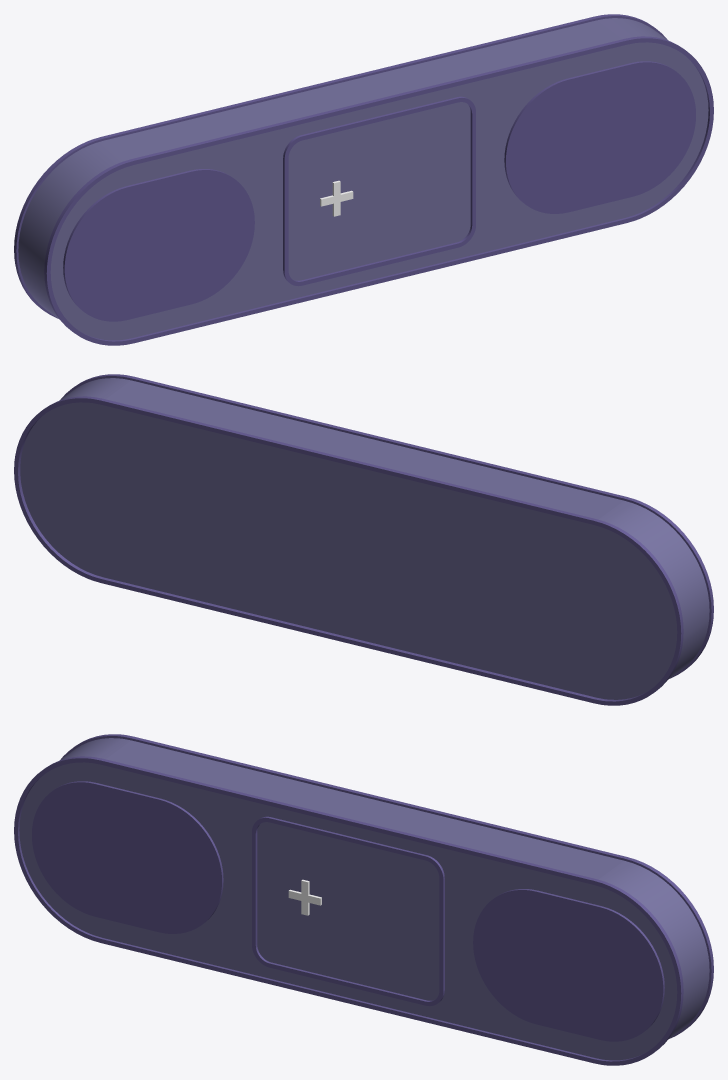
File: math_arithmetic.gltf
The picture shows the model from 3 angles, top to bottom: view 1: azimuth 30°, elevation 25°; view 2: azimuth 150°, elevation 25°; view 3: azimuth 330°, elevation 25°; orthographic projection.
Visible parts, largest first — view 1: Extrude.6, Extrude, Extrude.1, Extrude.5, Extrude.4, Extrude.3, Extrude.2; view 2: Extrude.6, Extrude.4, Extrude.5; view 3: Extrude.6, Extrude.1, Extrude, Extrude.5, Extrude.4, Extrude.3, Extrude.2.
Part boxes in pixels (x1,y1,x2,y2): Extrude.6: (18, 18, 708, 340); Extrude: (504, 61, 695, 213); Extrude.1: (63, 169, 254, 321); Extrude.5: (44, 36, 713, 345); Extrude.4: (14, 14, 666, 318); Extrude.3: (283, 96, 475, 286); Extrude.2: (320, 180, 353, 216); Extrude.6: (20, 378, 709, 699); Extrude.4: (14, 396, 683, 705); Extrude.5: (61, 374, 713, 678); Extrude.6: (19, 738, 709, 1060); Extrude.1: (32, 781, 223, 933); Extrude: (473, 889, 664, 1041); Extrude.5: (14, 756, 683, 1065); Extrude.4: (61, 734, 713, 1038); Extrude.3: (252, 816, 444, 1006); Extrude.2: (288, 879, 321, 915).
Bounding box in the file's own units: 0.7953 × 0.2079 × 0.0677.
